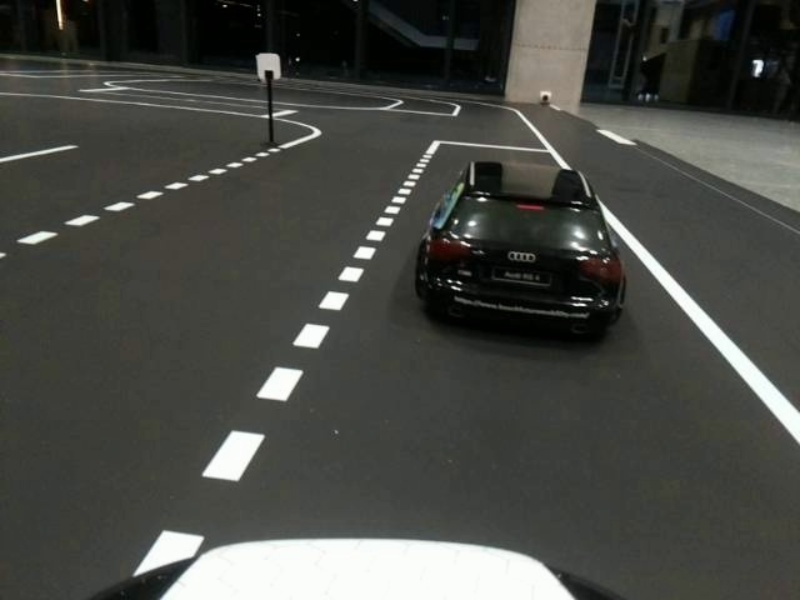car: (420, 148, 632, 345)
